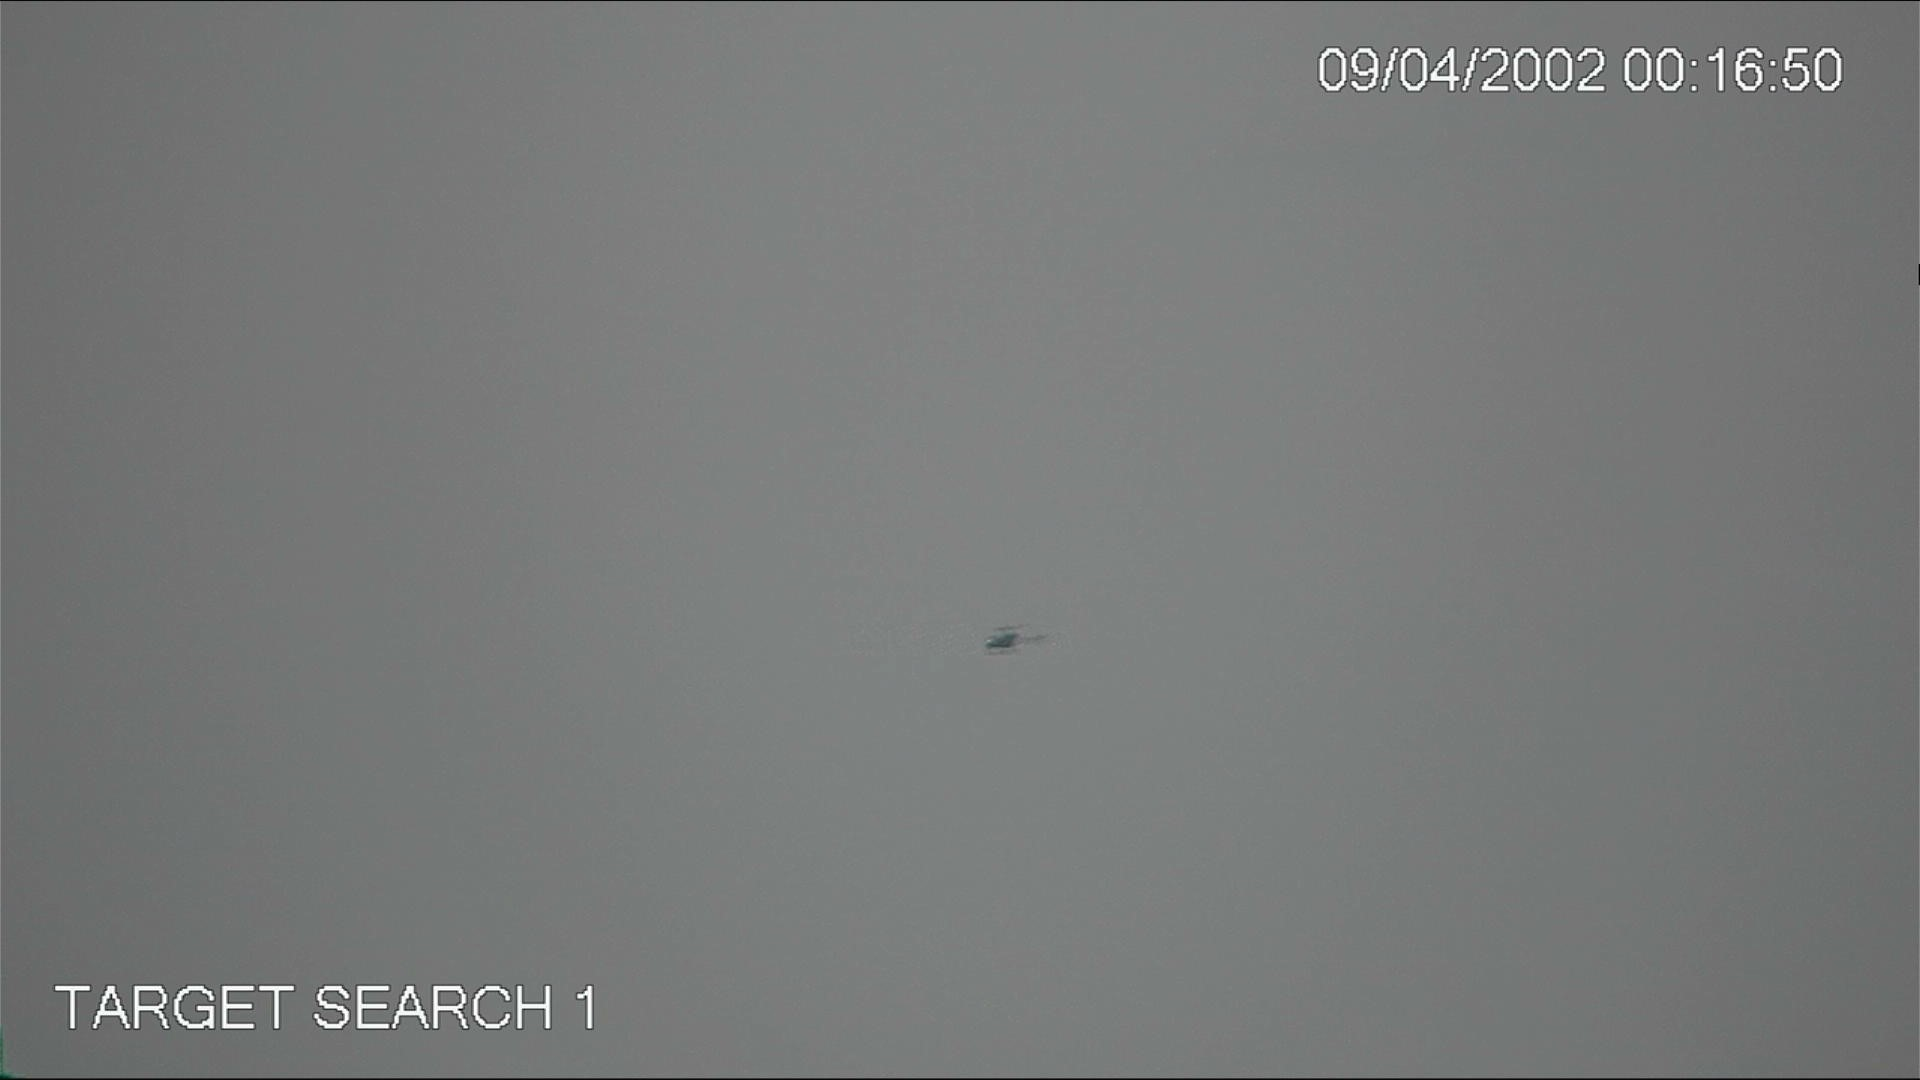SU_30: (978, 626, 1026, 653)
